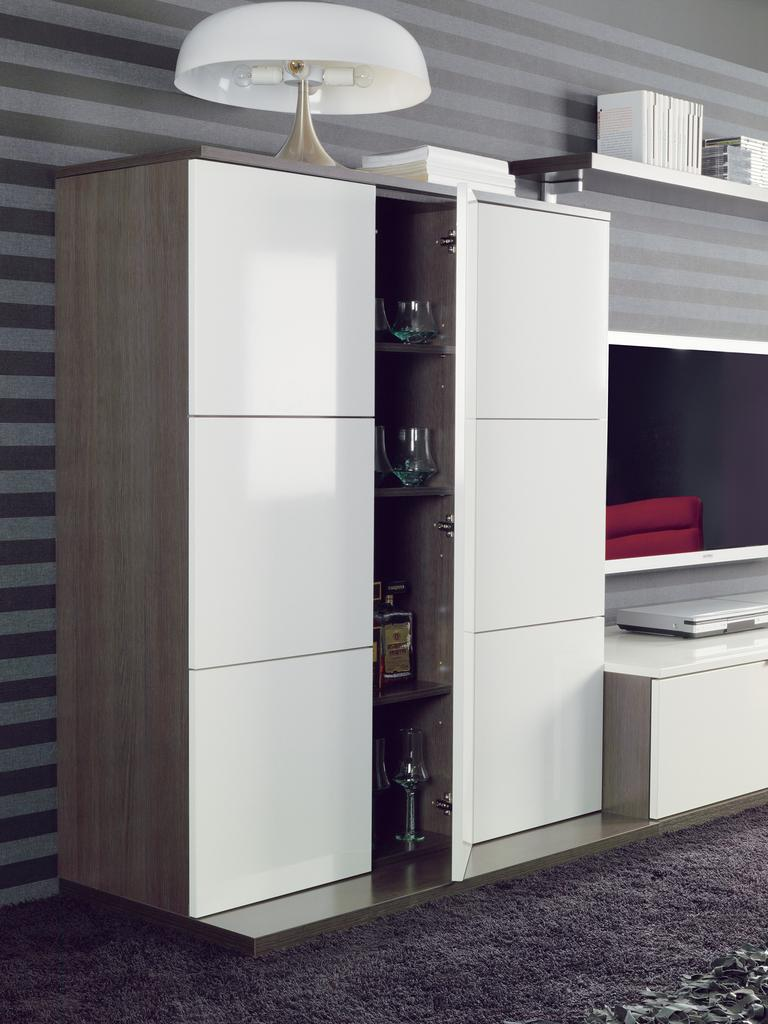cabinet_door: (188, 160, 378, 410), (188, 411, 378, 640), (183, 664, 373, 883), (468, 206, 608, 421), (466, 617, 603, 818), (468, 428, 602, 617), (658, 687, 768, 794)
